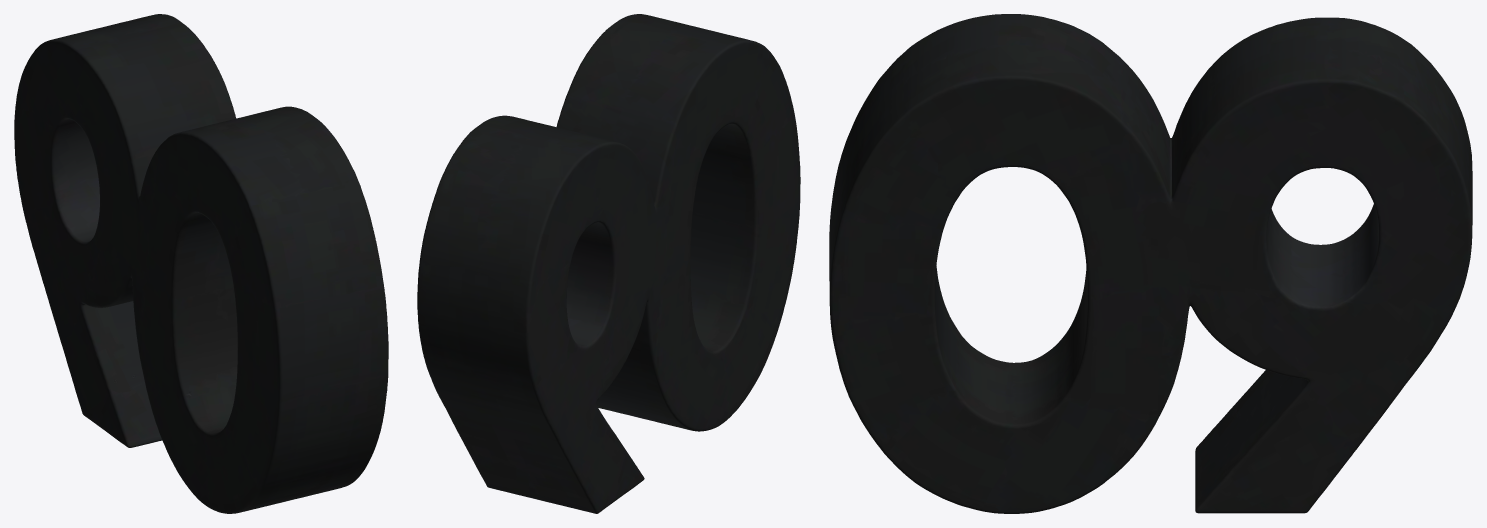
The picture shows the model from 3 angles, left to right: view 1: azimuth 30°, elevation 25°; view 2: azimuth 150°, elevation 25°; view 3: azimuth 270°, elevation 25°; orthographic projection. The views are drawn at different scales.
Visible parts, largest first — view 1: tripo_node_de814a87-8844-4a3a-88a8-7effc7bfdfca; view 2: tripo_node_de814a87-8844-4a3a-88a8-7effc7bfdfca; view 3: tripo_node_de814a87-8844-4a3a-88a8-7effc7bfdfca.
Part boxes in pixels (x1,y1,x2,y2): tripo_node_de814a87-8844-4a3a-88a8-7effc7bfdfca: (14,14,388,513); tripo_node_de814a87-8844-4a3a-88a8-7effc7bfdfca: (417,14,800,513); tripo_node_de814a87-8844-4a3a-88a8-7effc7bfdfca: (829,14,1472,513).
Bounding box in the file's own units: 0.2247 × 0.7158 × 0.9502.
Materials: 1 (1 with a texture image).
